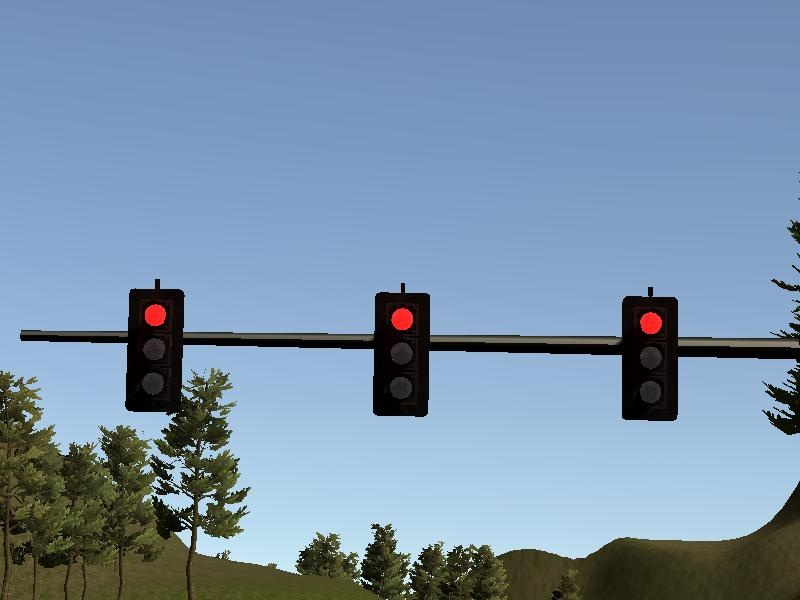Red: (126, 290, 185, 414), (371, 292, 430, 416), (620, 296, 679, 420)
